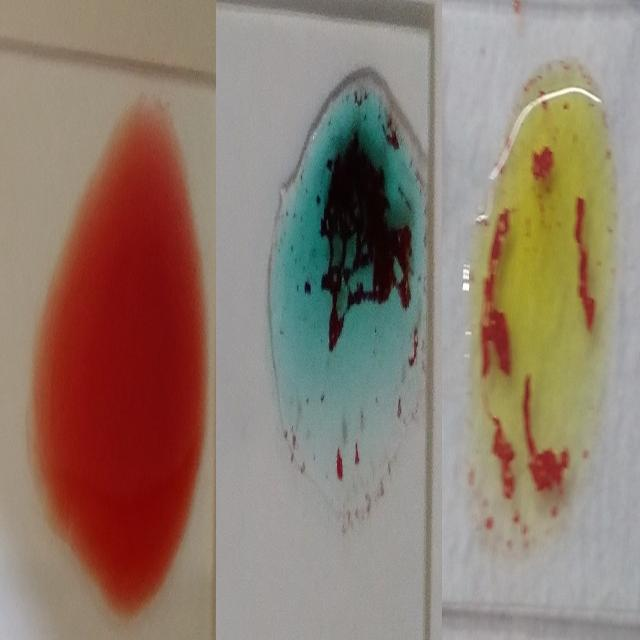A: (266, 66, 422, 507)
B: (463, 59, 611, 558)
